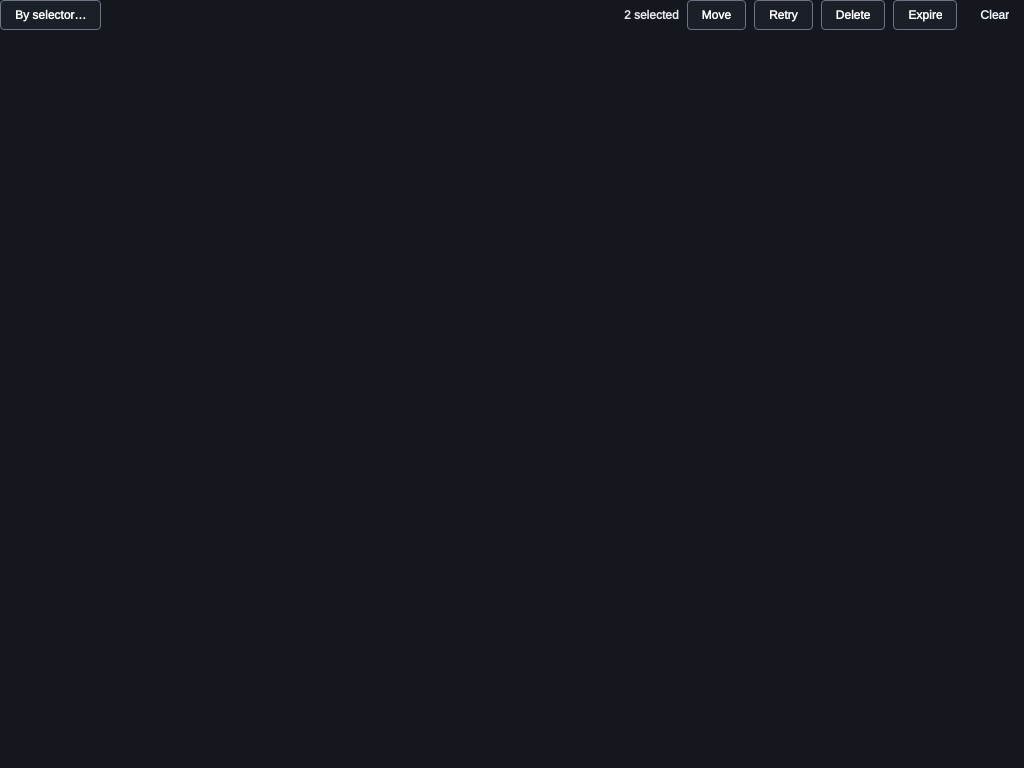
it: MessageActions › asks for the target queue on the field when a move is confirmed without one
The width and height of the screenshot is (1024, 768).
Click the button "Move" at (716, 15), box x1=687 y1=0 x2=746 y2=30
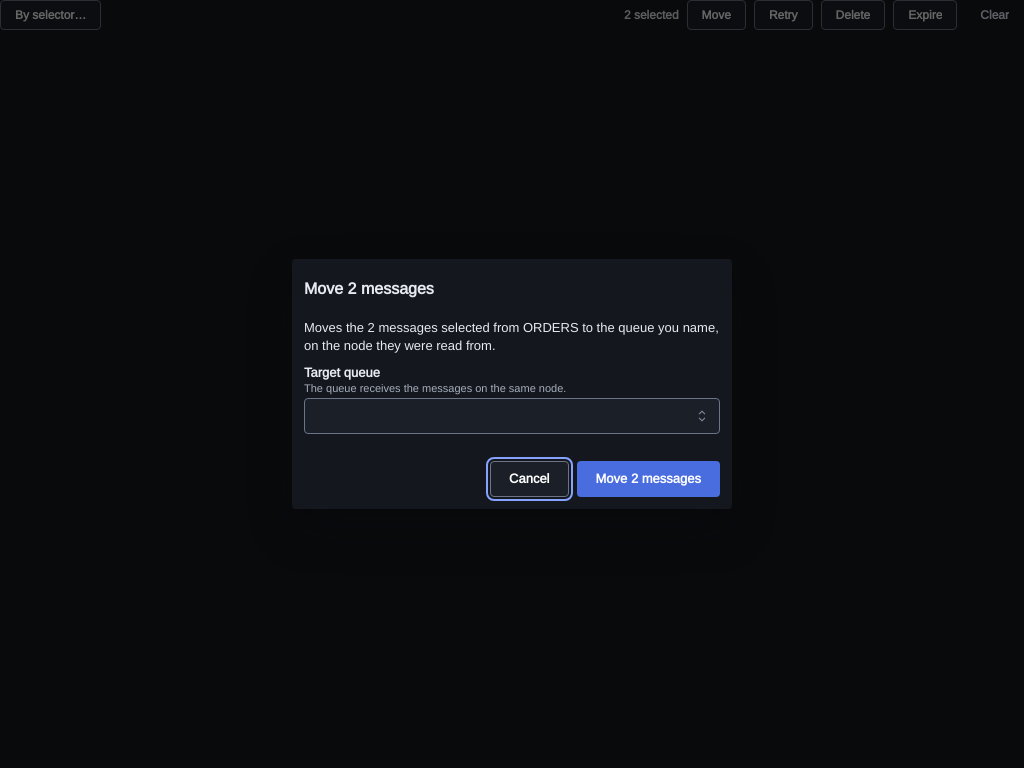
Click the button "Move 2 messages" at (648, 479), box x1=576 y1=461 x2=720 y2=497
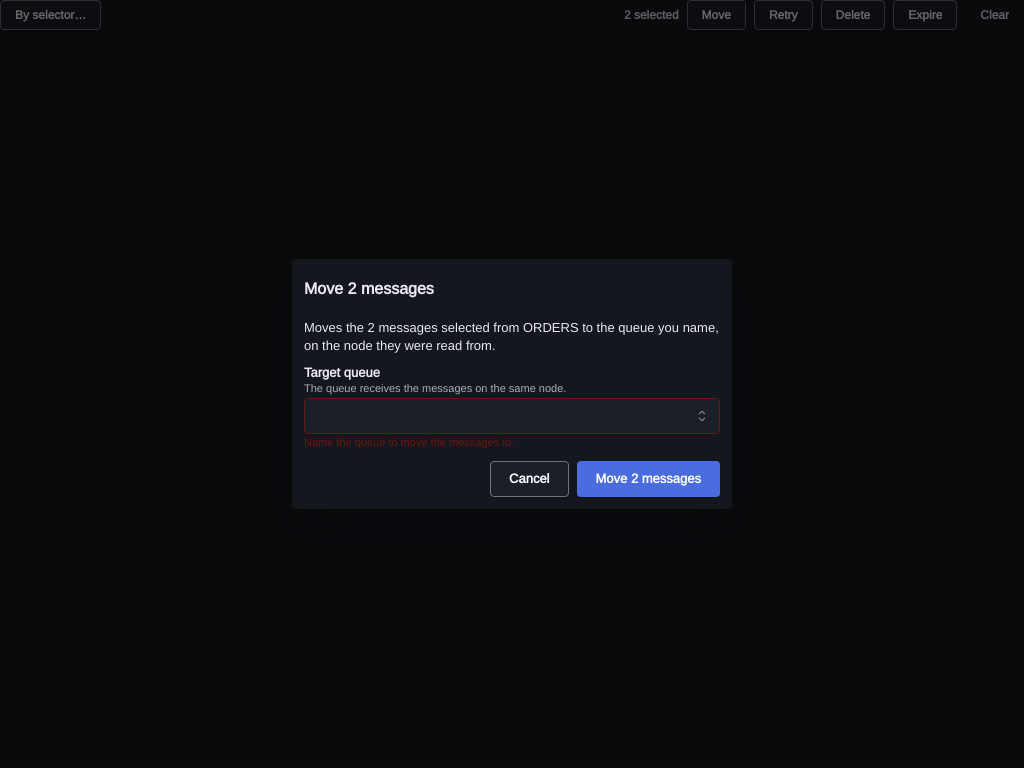
Expected: the text "Name the queue to move the messages to." is shown, x1=304 y1=435 x2=514 y2=449
Type "ARCHIVE" into the field labelled "Target queue" at (512, 416), box x1=304 y1=398 x2=720 y2=434
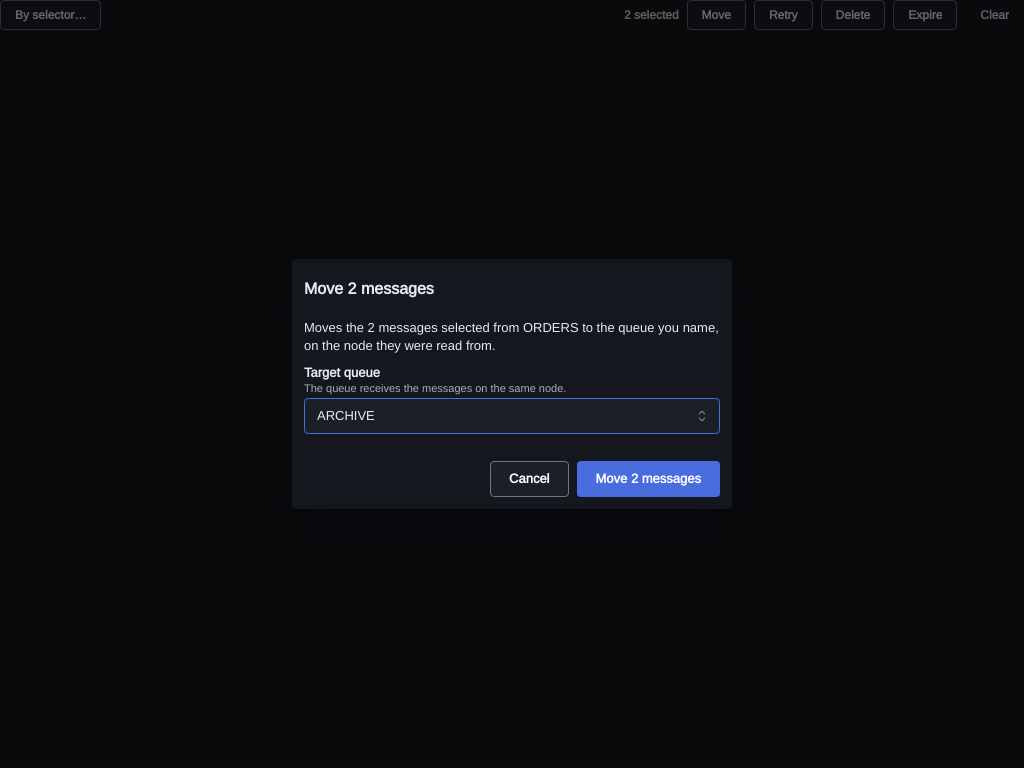
Click the button "Move 2 messages" at (648, 479), box x1=576 y1=461 x2=720 y2=497
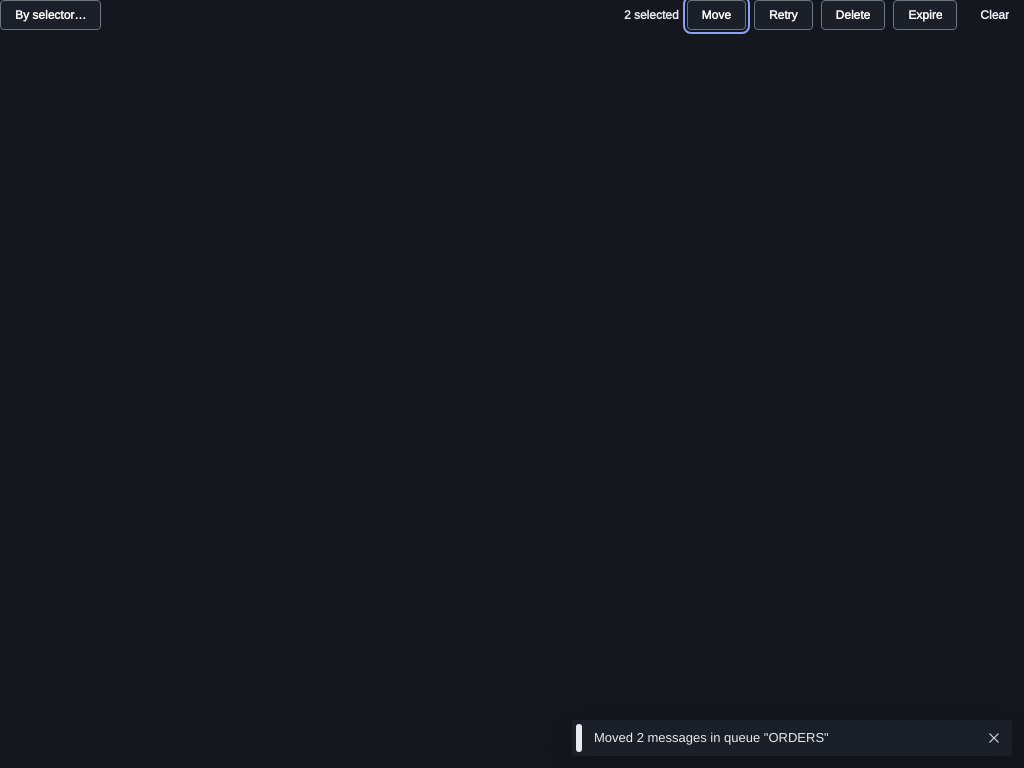
Expected: the text "Moved 2 messages in queue \"ORDERS\"" is shown, x1=594 y1=729 x2=829 y2=746
